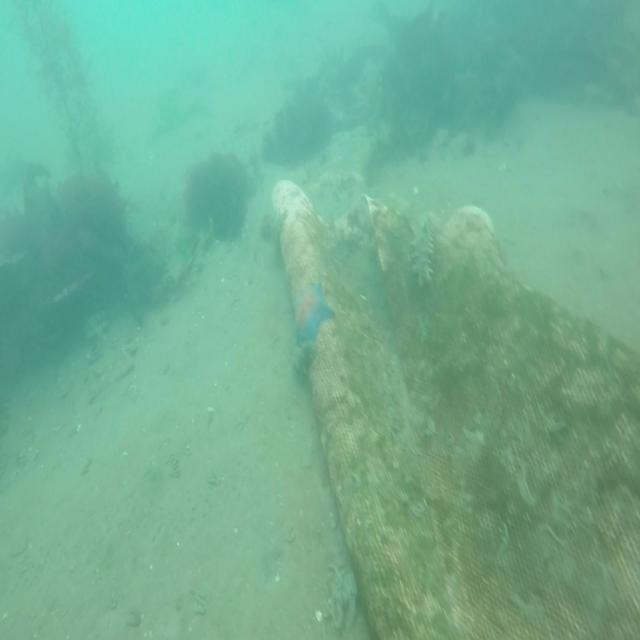holothurian: (411, 211, 438, 283)
starfish: (288, 282, 335, 348)
